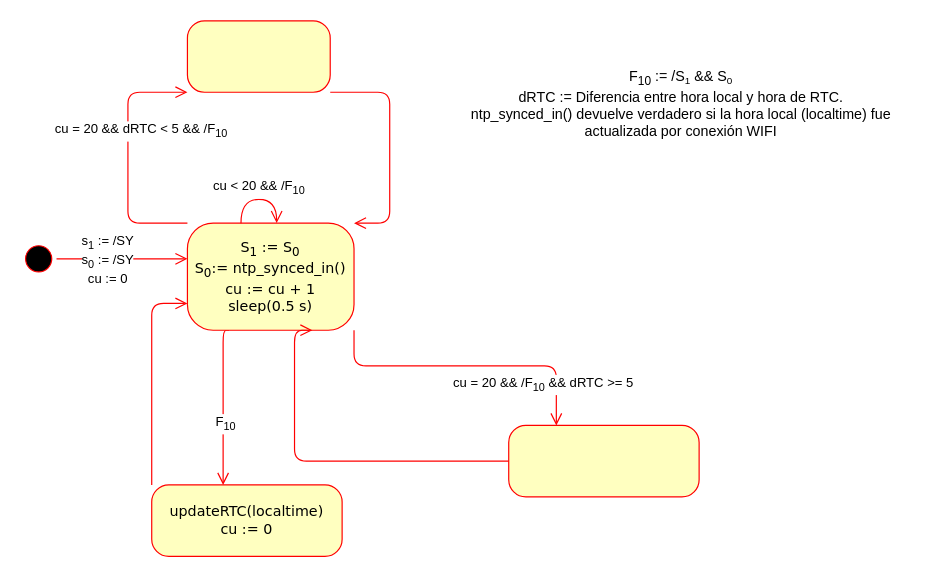
The diagram is 934 pixels wide and 577 high, and some of its shapes have lost their labels. The box of each missing label's shape, as (x1, y1, x2, y2) in pixels:
cu := 0: (186, 20, 330, 92)
updateLocaltime(RTC) cu := 0: (508, 424, 699, 497)
